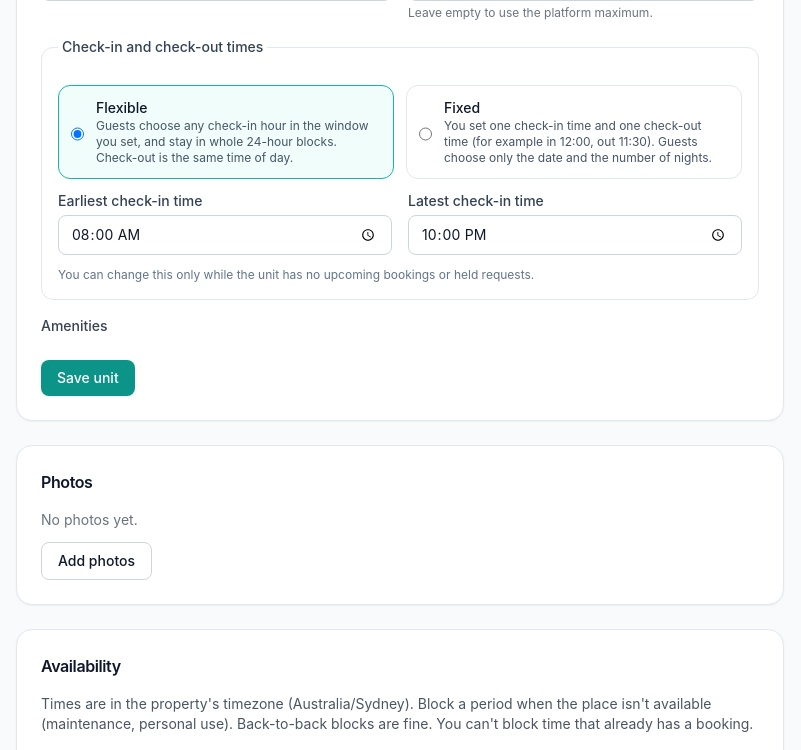
Test: what happens when Save is pressed › shows the success message in the same place, and brings it into view
(page scrolled)
What coordinates should you click on to do the following:
click the button "Save unit"
I would click on:
 (88, 378)
Its box is 41,360 -> 135,396.
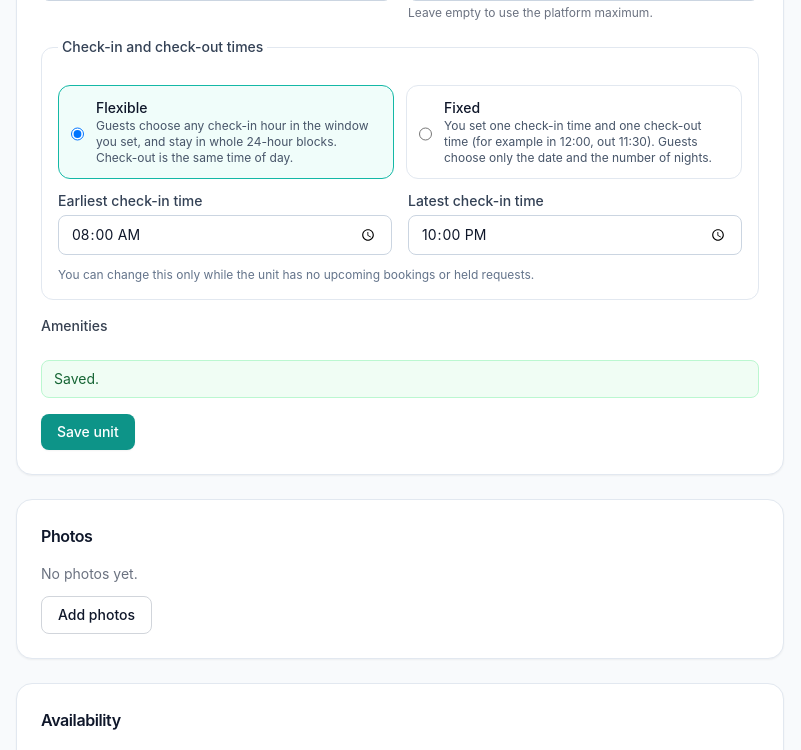
Check: the text "Saved." is shown, box 41,360 -> 759,398
